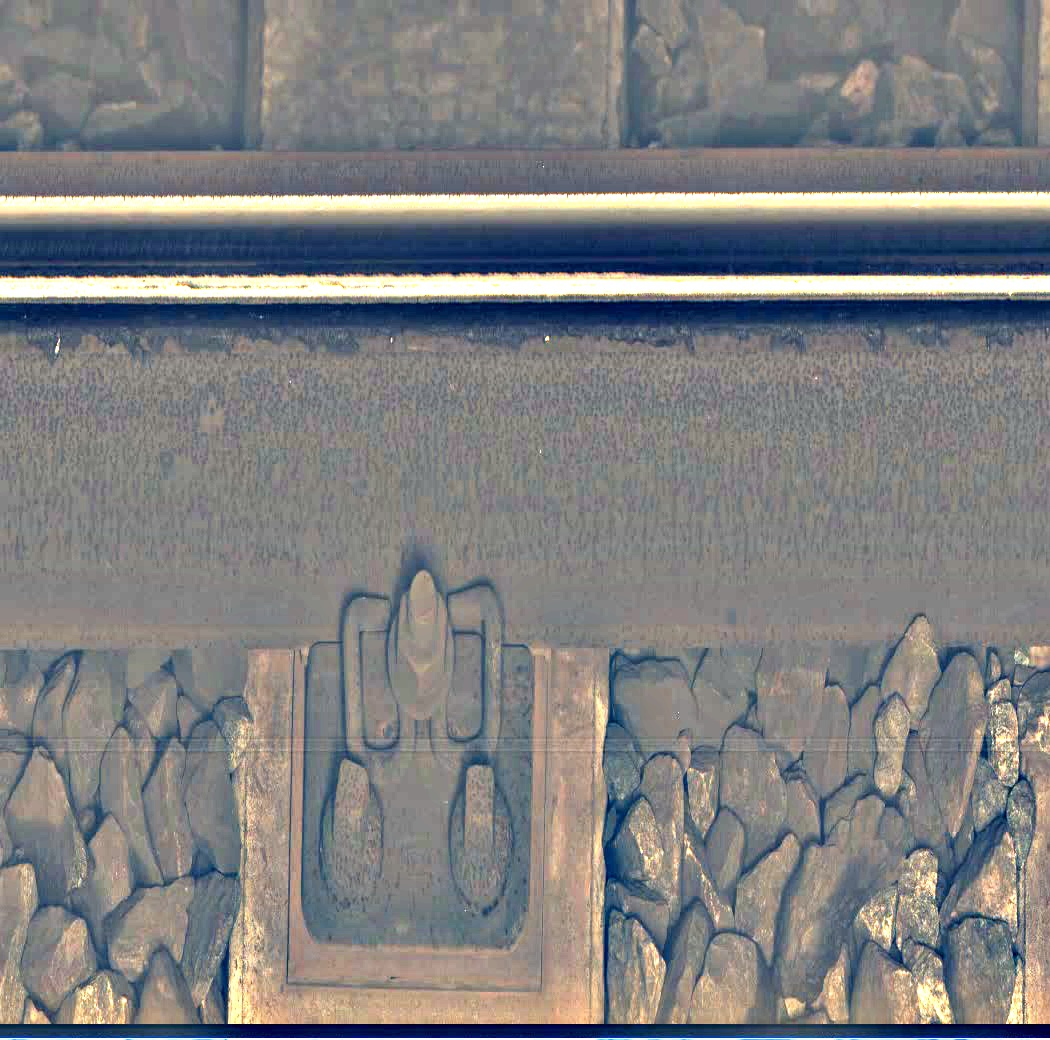tension_clamp: (266, 555, 570, 1005)
